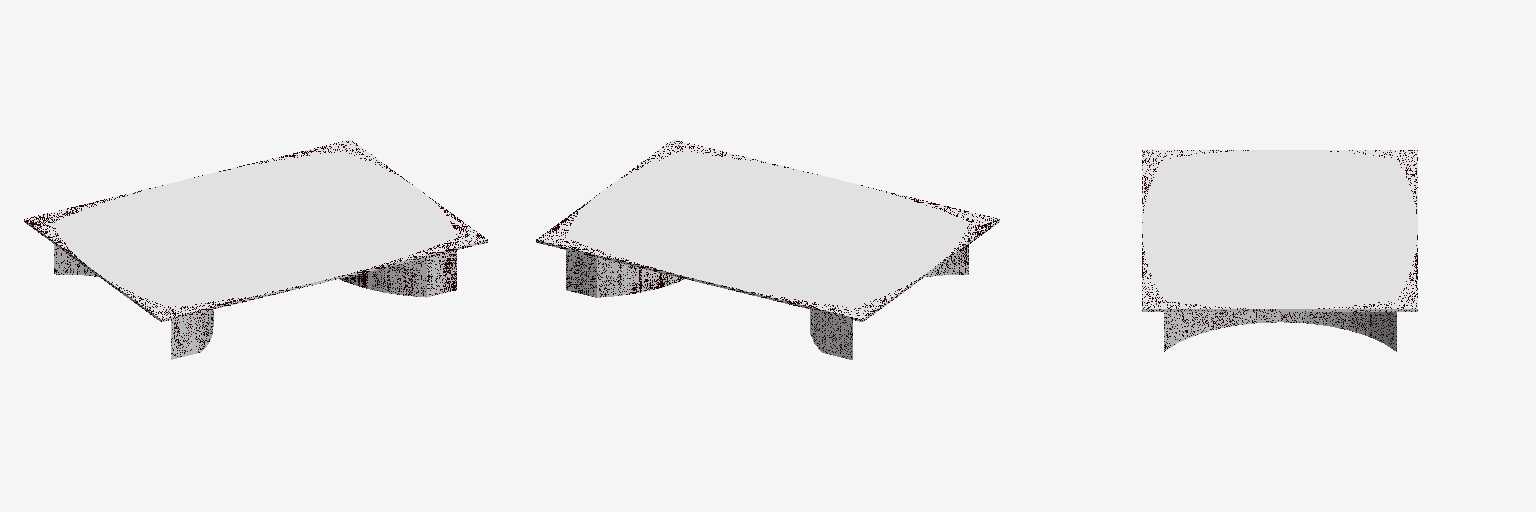
3 renders of one model, left to right at view 1: azimuth 30°, elevation 25°; view 2: azimuth 150°, elevation 25°; view 3: azimuth 270°, elevation 25°, orthographic.
Parts seen in each view (by area): view 1: mesh2_mesh2-geometry; view 2: mesh2_mesh2-geometry; view 3: mesh2_mesh2-geometry.
Part boxes in pixels (left/top/right/bottom): mesh2_mesh2-geometry: left=24, top=139, right=487, bottom=359; mesh2_mesh2-geometry: left=536, top=139, right=999, bottom=359; mesh2_mesh2-geometry: left=1142, top=150, right=1417, bottom=351.
Bounding box in the file's own units: 0.8021 × 0.1239 × 0.5842.
5 materials, 2 textured.